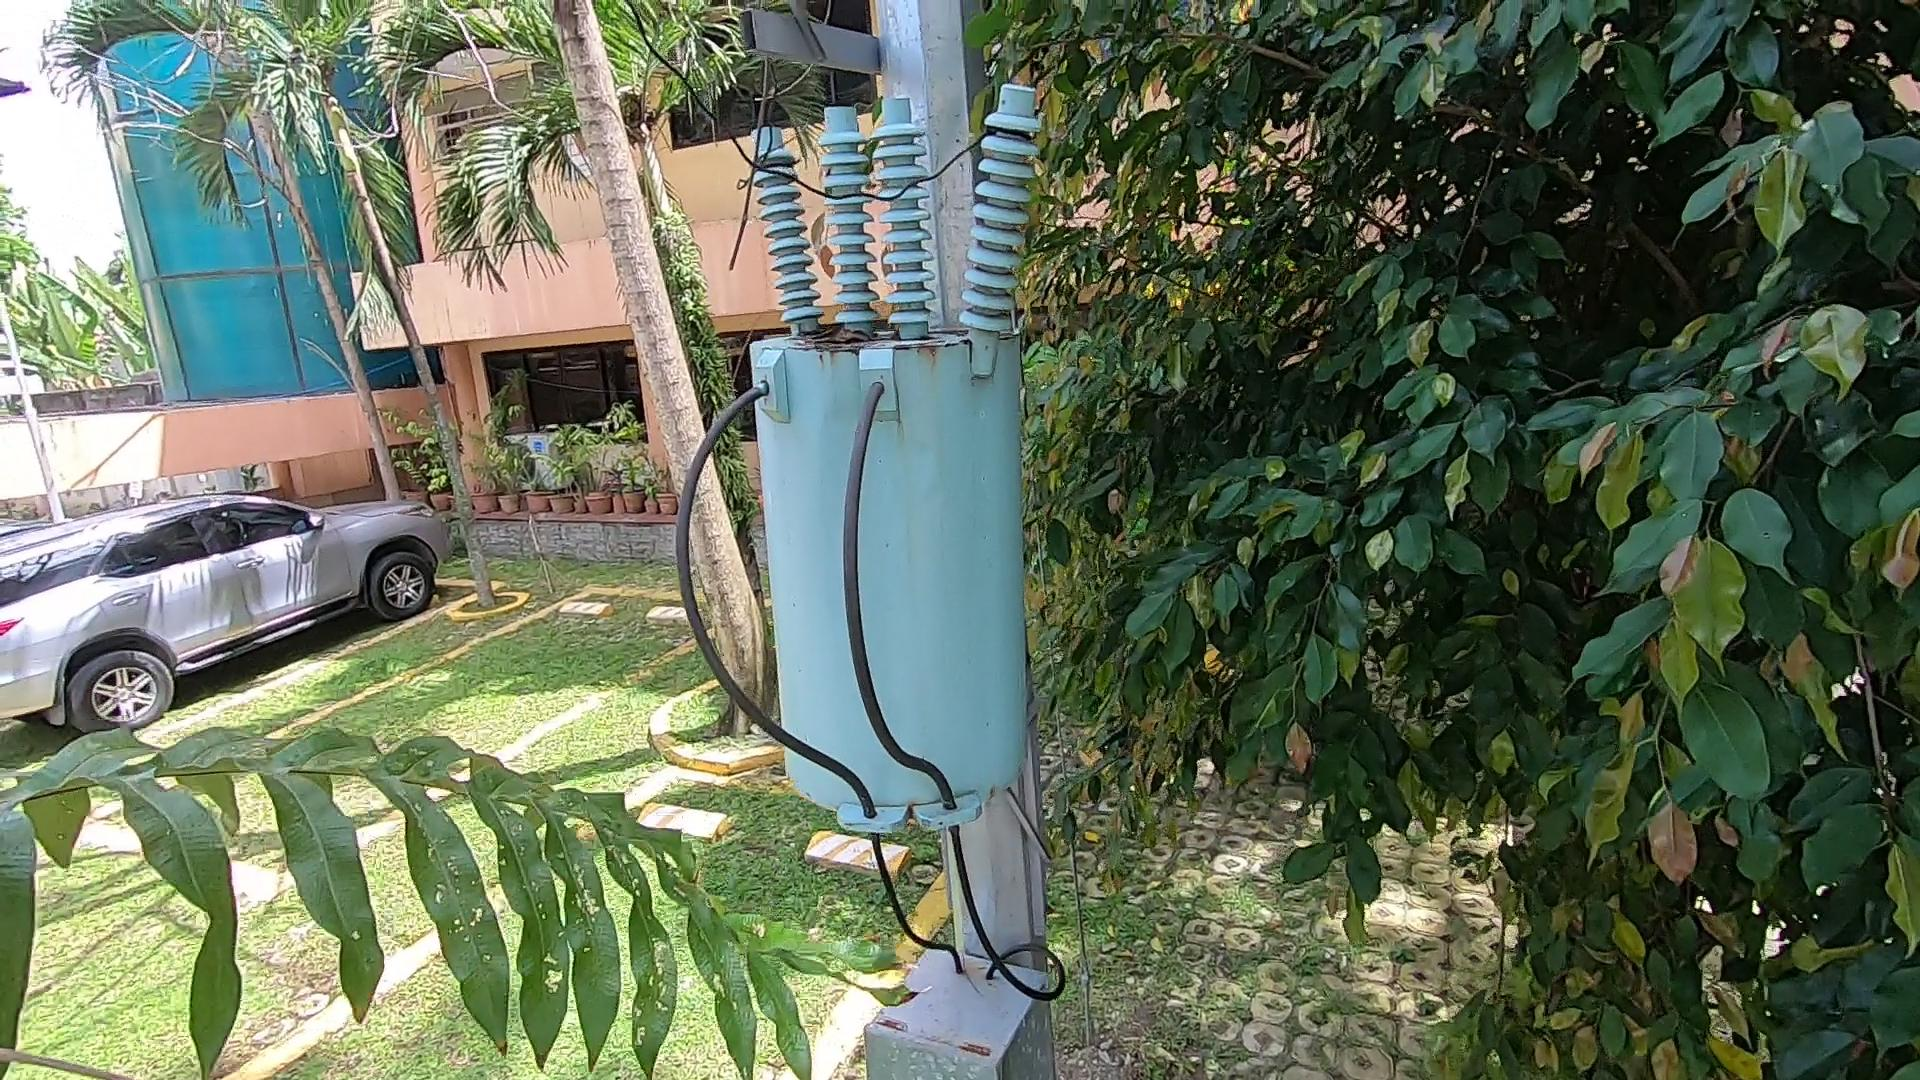leaf: (795, 314, 881, 353)
tree branch: (711, 15, 822, 268)
